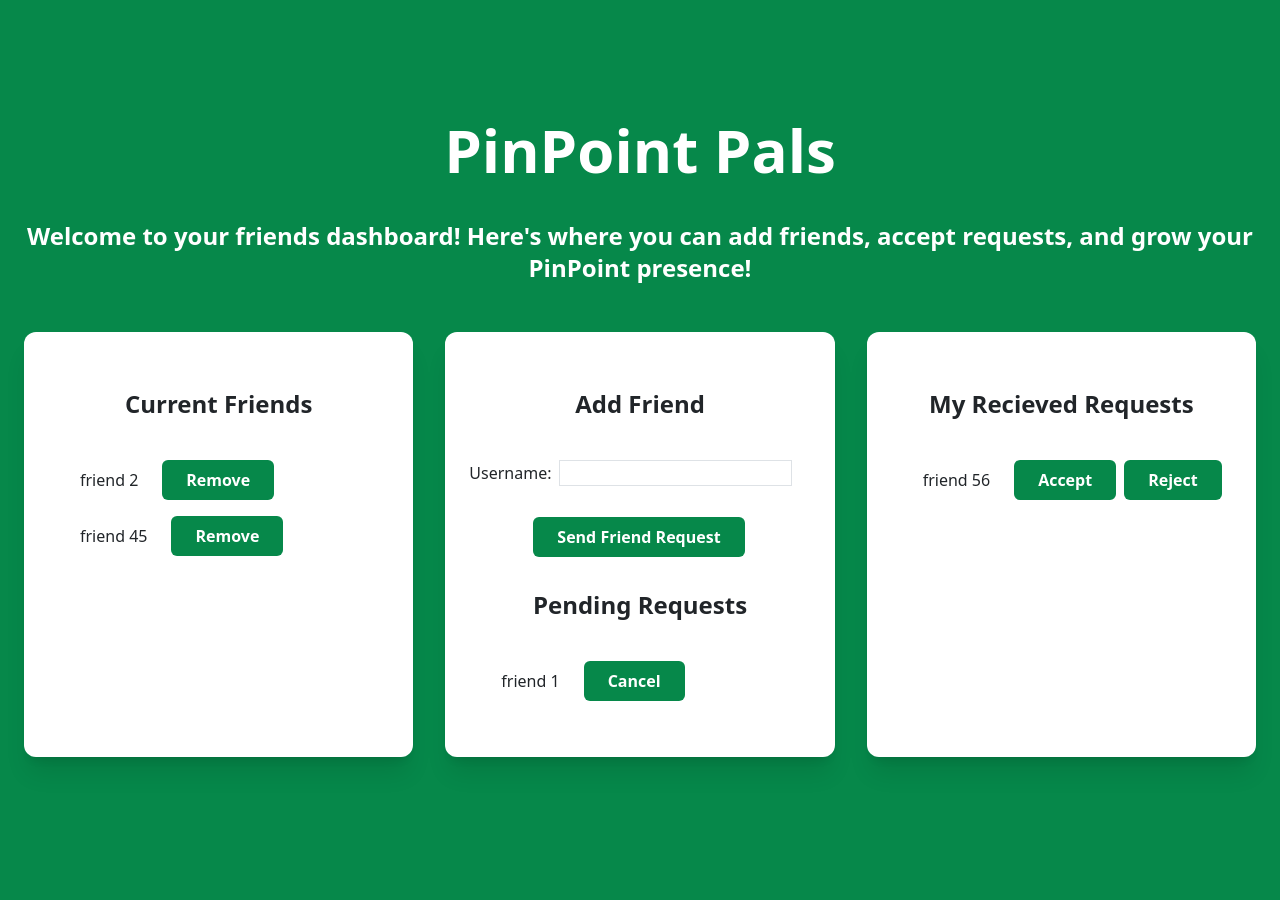
it: Friends › Send friend request form
Expected: the number of buttons "Cancel" is 1, [584,661,684,701]
# fill in the username field and then send the request
Type "friend 37" into the field labelled "Username:" at x=676, y=473, box [560,460,792,486]
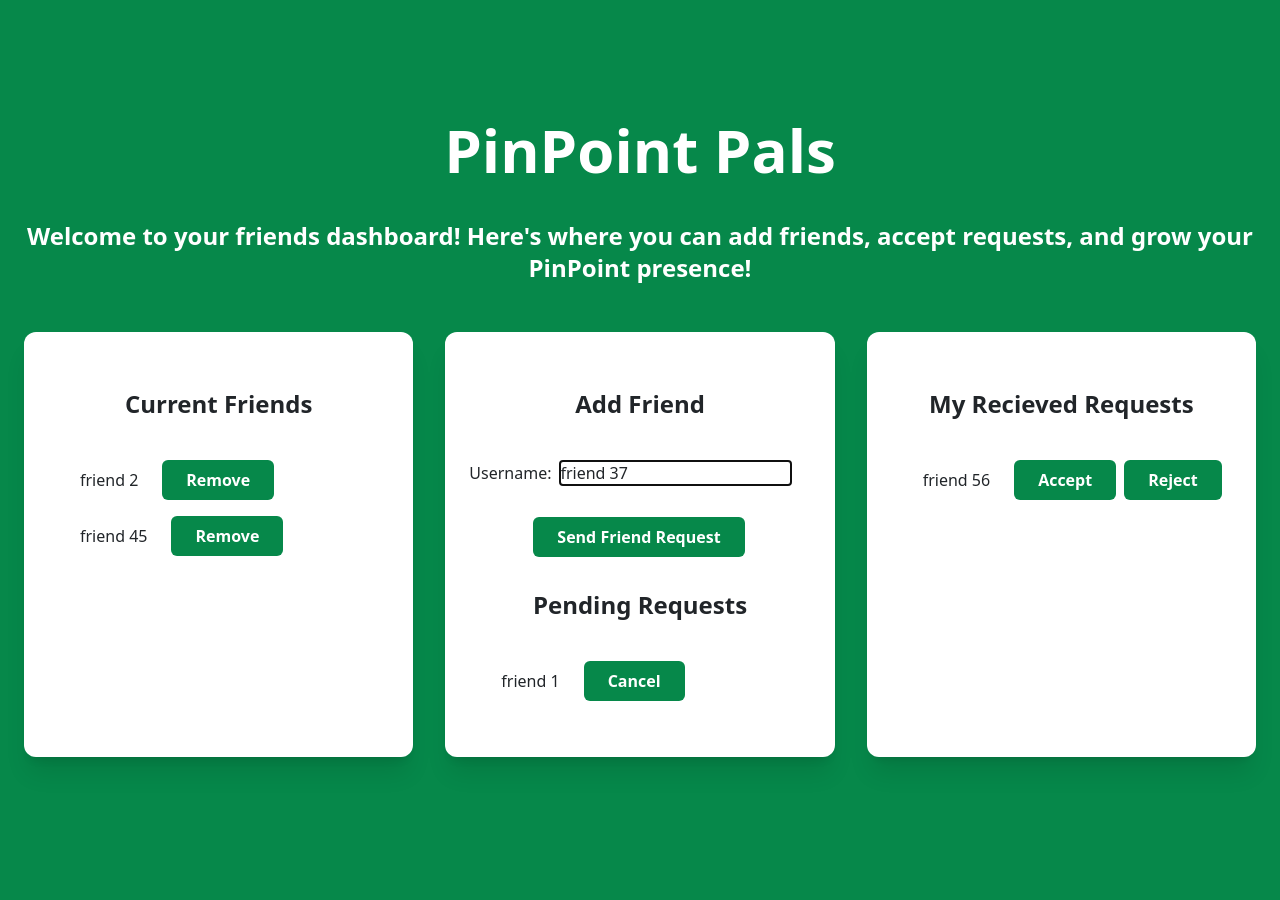
Click the button "Send Friend Request" at x=639, y=537, box [533,517,745,557]
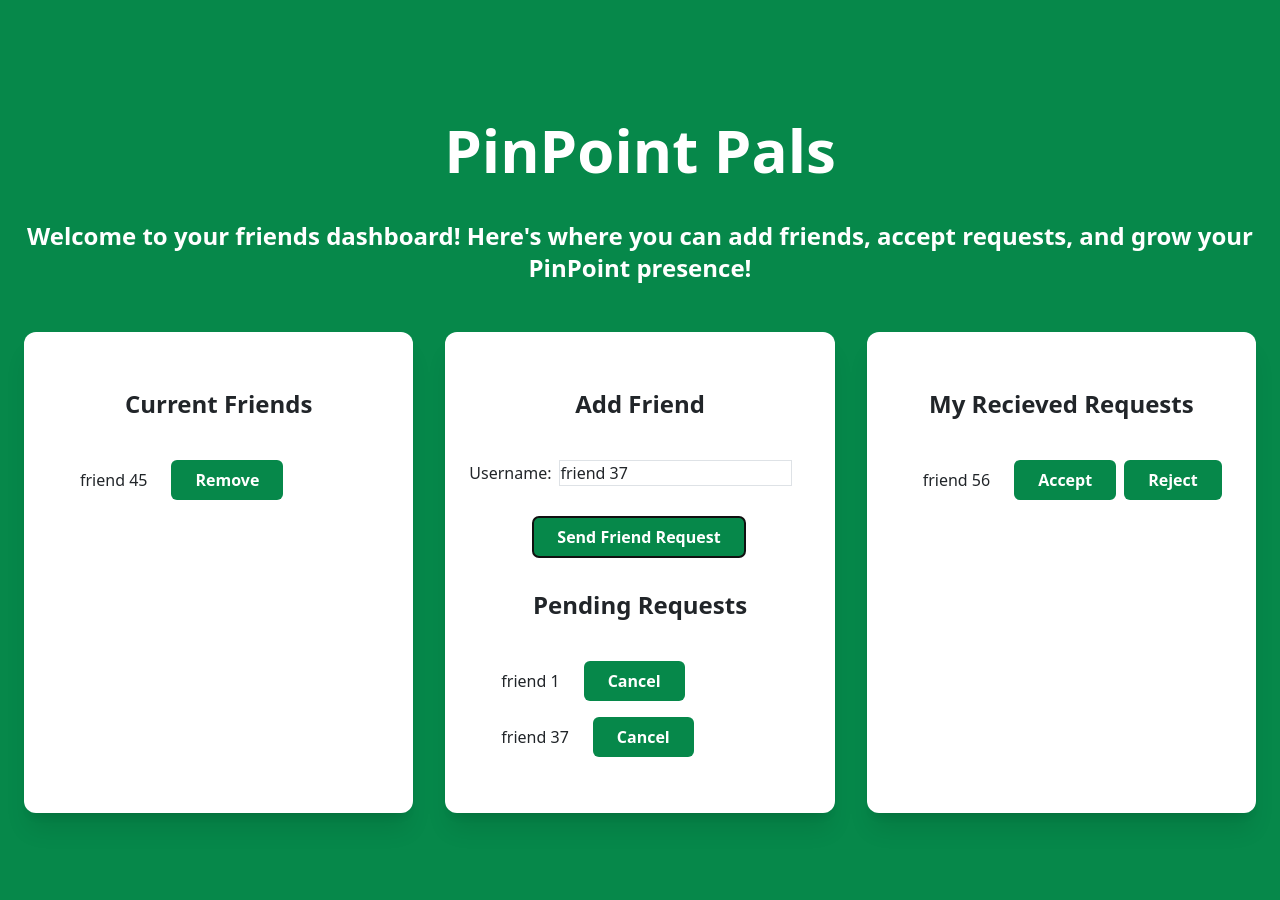
Expected: the number of buttons "Cancel" is 2, [584,661,684,701]; [593,717,694,757]
Expected: the text "friend 37" is shown, [501,725,569,749]
